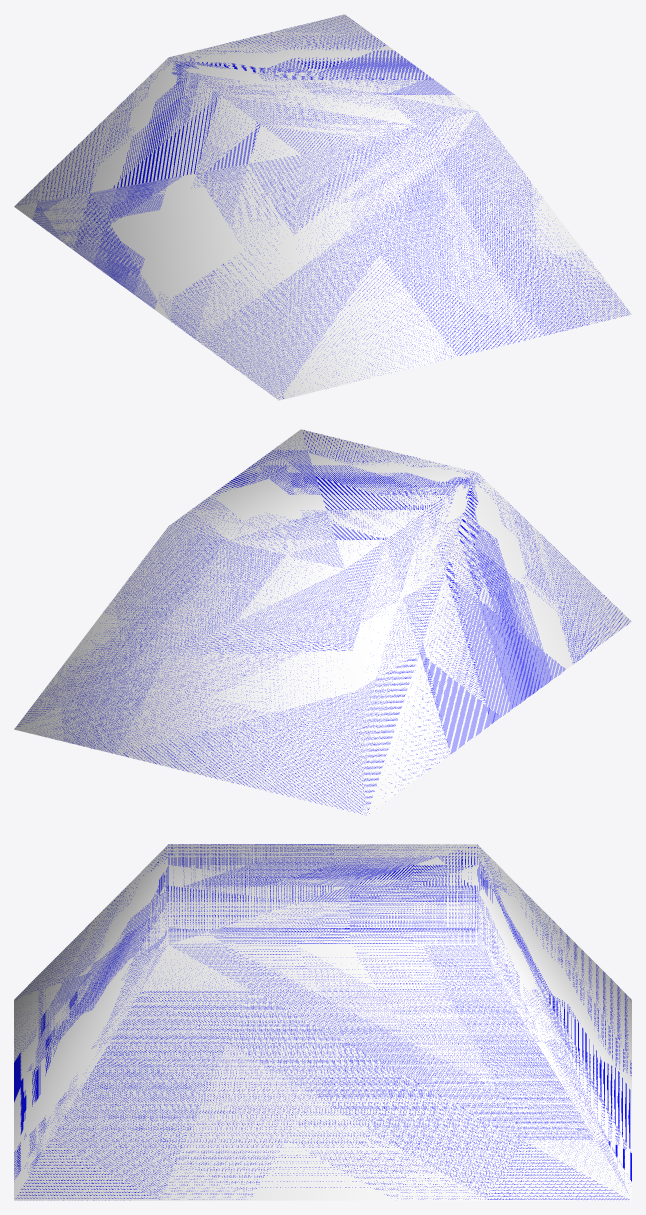
Rendered from original-35.obj.
The picture shows the model from 3 angles, top to bottom: view 1: azimuth 30°, elevation 25°; view 2: azimuth 150°, elevation 25°; view 3: azimuth 270°, elevation 25°; orthographic projection. The views are drawn at different scales.
Parts seen in each view (by area): view 1: Component_5_30/Component_5/mesh4/mesh4-geometry#mesh4-geometry; view 2: Component_5_30/Component_5/mesh4/mesh4-geometry#mesh4-geometry; view 3: Component_5_30/Component_5/mesh4/mesh4-geometry#mesh4-geometry.
Part boxes in pixels (x1,y1,x2,y2): Component_5_30/Component_5/mesh4/mesh4-geometry#mesh4-geometry: (14,14,631,400); Component_5_30/Component_5/mesh4/mesh4-geometry#mesh4-geometry: (14,429,631,815); Component_5_30/Component_5/mesh4/mesh4-geometry#mesh4-geometry: (14,844,631,1200).
Bounding box in the file's own units: 0.0787 × 0.0376 × 0.1023.
